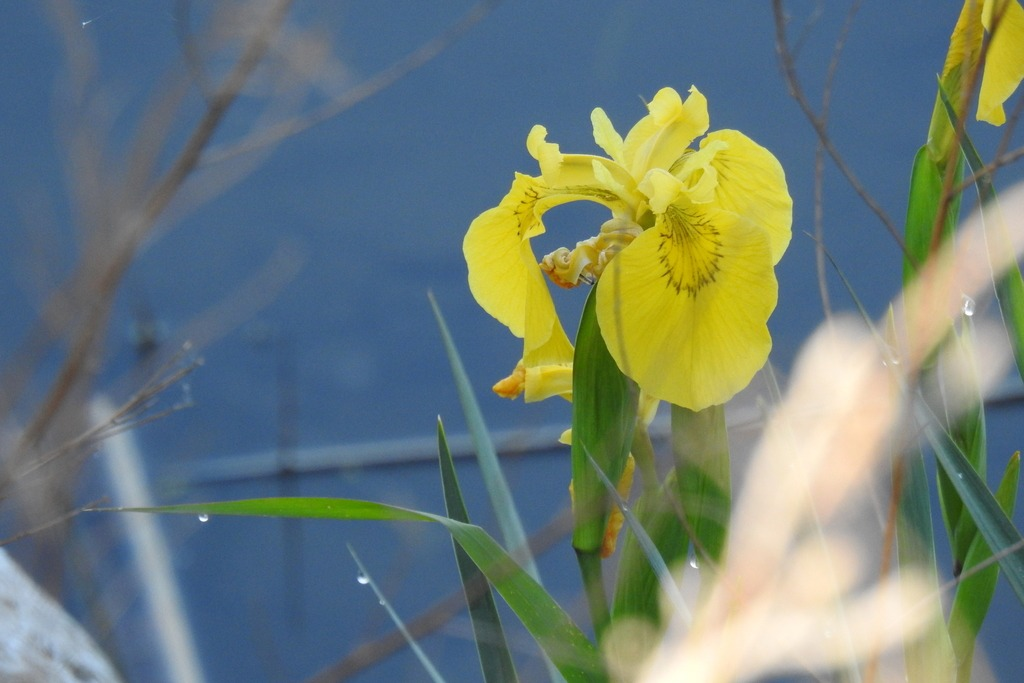yellow flag iris: (453, 78, 801, 562)
